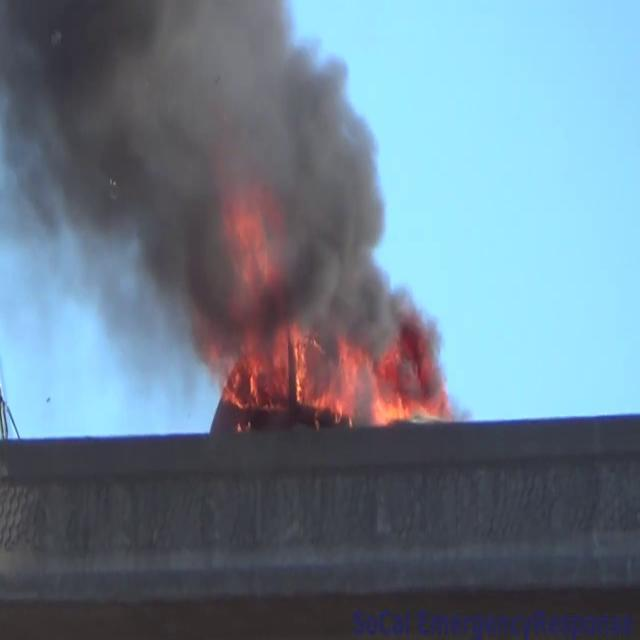Fire: (243, 315, 447, 433)
Smoke: (0, 1, 433, 377)
